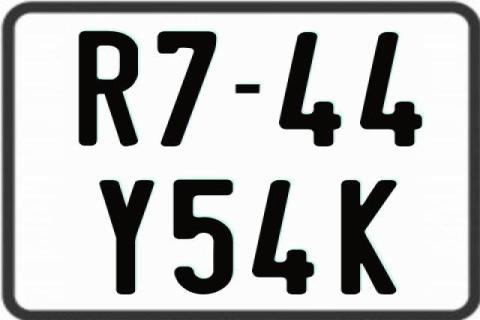0: (250, 180, 318, 298), (170, 178, 236, 296), (357, 31, 422, 149), (154, 31, 218, 149), (276, 30, 340, 146)
K: (338, 179, 394, 295)
R: (78, 29, 138, 150)
Y: (97, 177, 155, 297)
